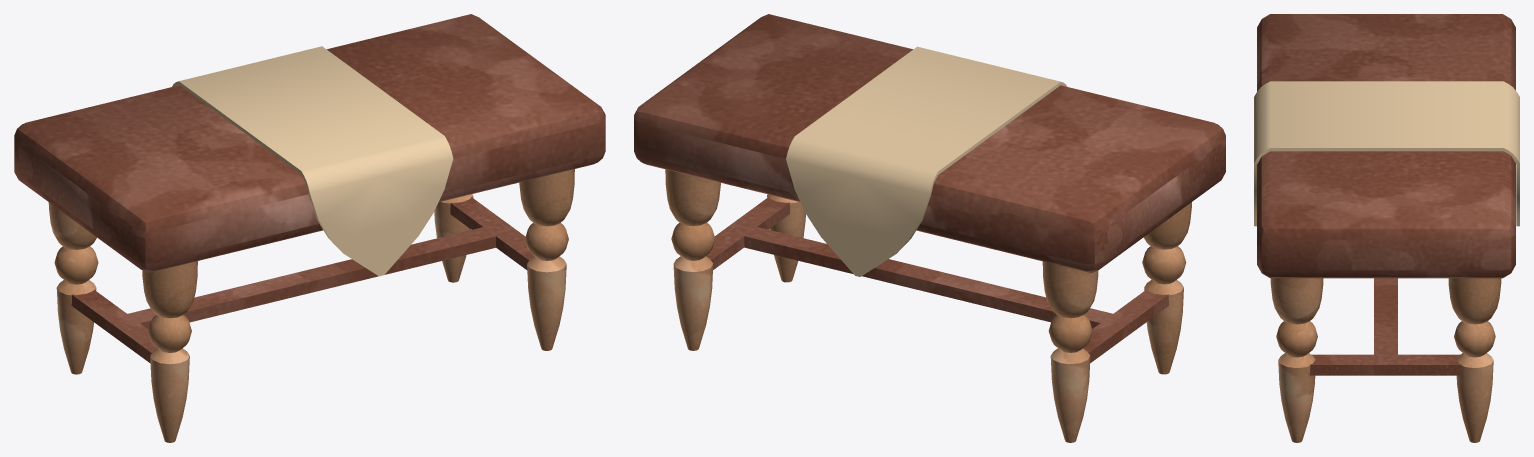
File: SM_Table_Medium.fbx
The picture shows the model from 3 angles, left to right: view 1: azimuth 30°, elevation 25°; view 2: azimuth 150°, elevation 25°; view 3: azimuth 270°, elevation 25°; orthographic projection. The views are drawn at different scales.
Parts seen in each view (by area): view 1: SM_Table_pt1, SM_Table_pt2; view 2: SM_Table_pt1, SM_Table_pt2; view 3: SM_Table_pt2, SM_Table_pt1.
Part boxes in pixels (x1,y1,x2,y2): SM_Table_pt1: (14, 63, 381, 442); SM_Table_pt2: (251, 14, 605, 350); SM_Table_pt1: (857, 64, 1225, 442); SM_Table_pt2: (634, 14, 988, 350); SM_Table_pt2: (1254, 114, 1519, 442); SM_Table_pt1: (1254, 14, 1519, 129).
Bounding box in the file's own units: 198 × 101 × 102.
1 material, 1 textured.
